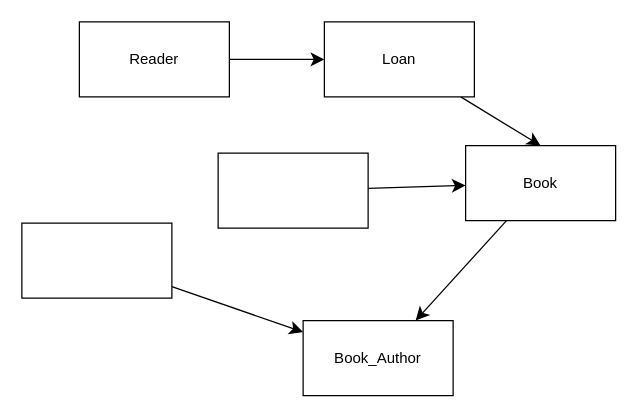
This 638x418 diagram has some shape labels left out. Each missing label, with the centre of its shape:
Author: (96,260)
Category: (292,190)
